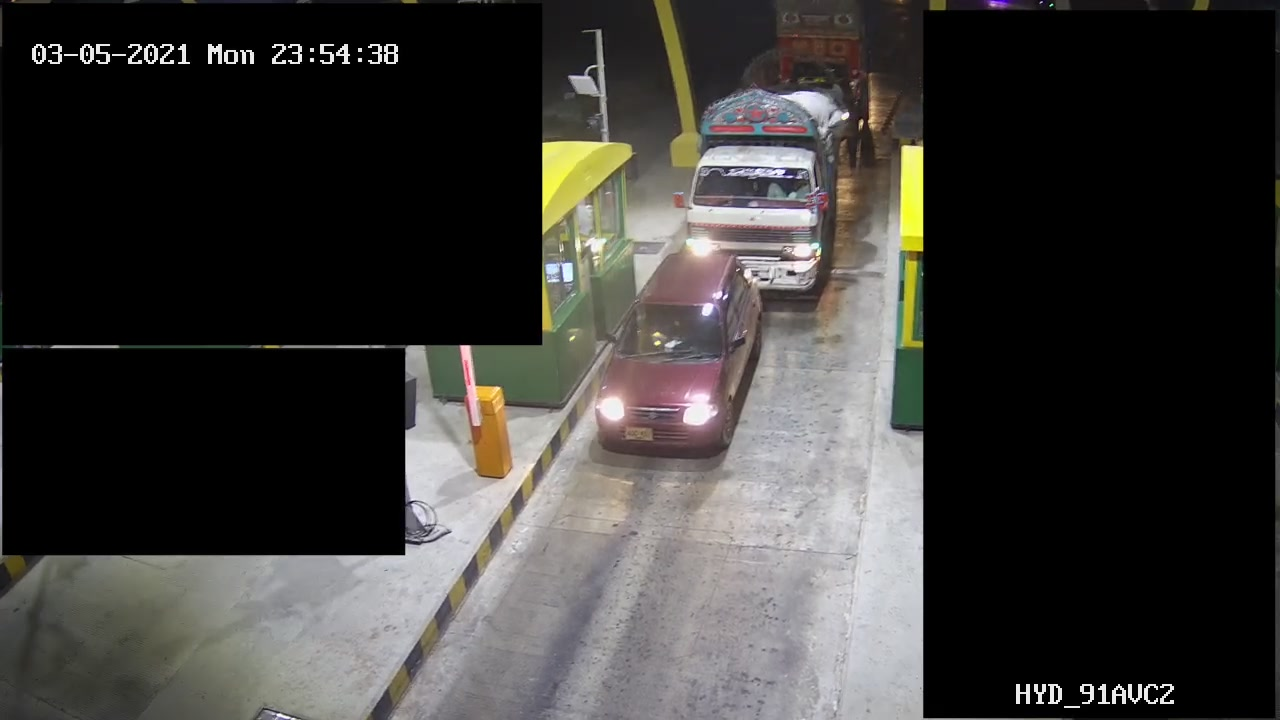F1: (588, 250, 758, 456)
